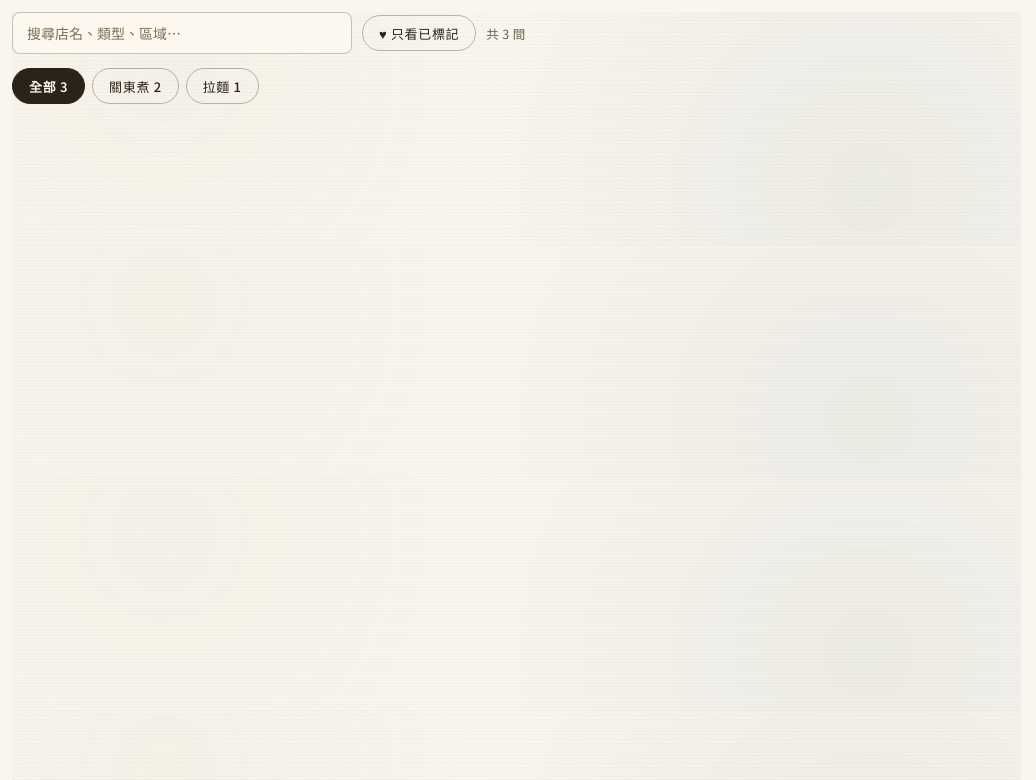
Food 就地搜尋 › 輸入命中類型時顯示分類建議，點選套用篩選並清空輸入
This screenshot has width=1036, height=780.
Type "關東" into the field with placeholder "搜尋店名、類型、區域…" at (182, 33), box top-left (12, 12), bottom-right (352, 54)
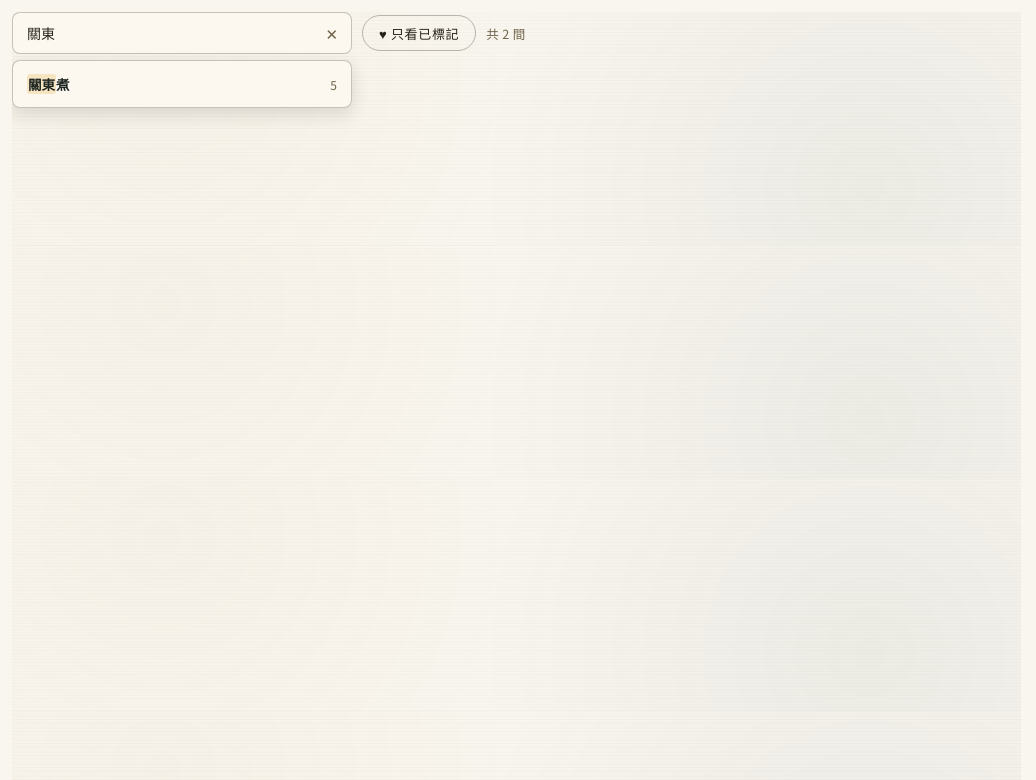
Click the button "關東煮 5" at (42, 84), box top-left (13, 65), bottom-right (351, 103)
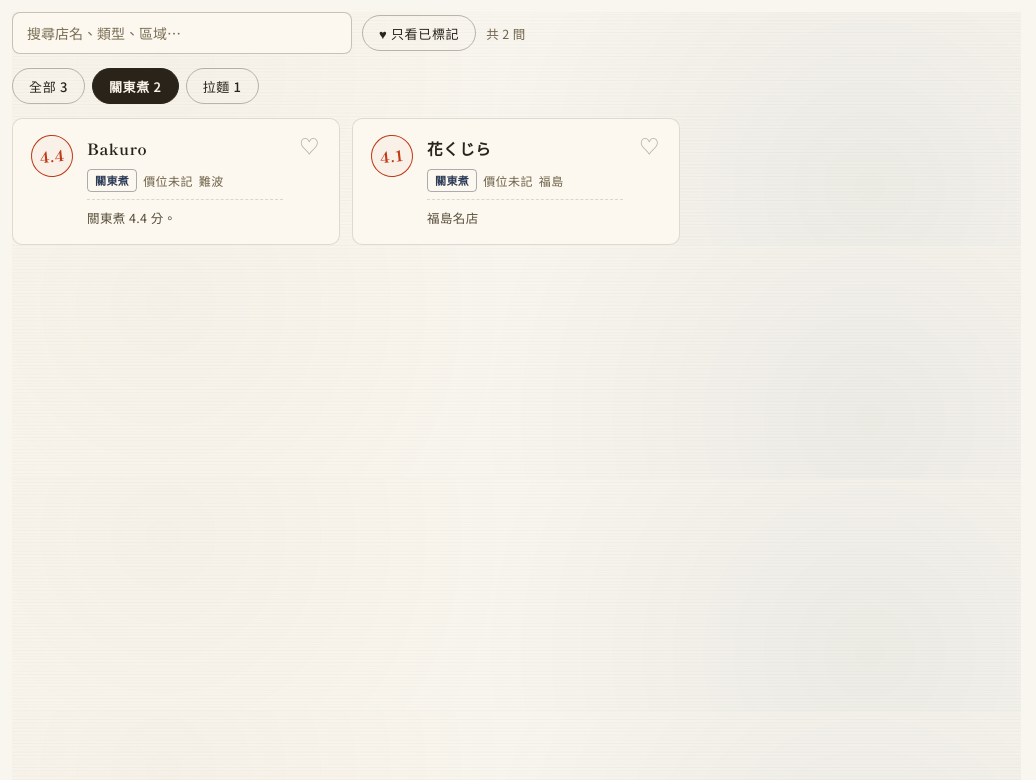
Expected: the field with placeholder "搜尋店名、類型、區域…" is empty, top-left (12, 12), bottom-right (352, 54)
Expected: the text "Bakuro" is shown, top-left (87, 138), bottom-right (147, 159)
